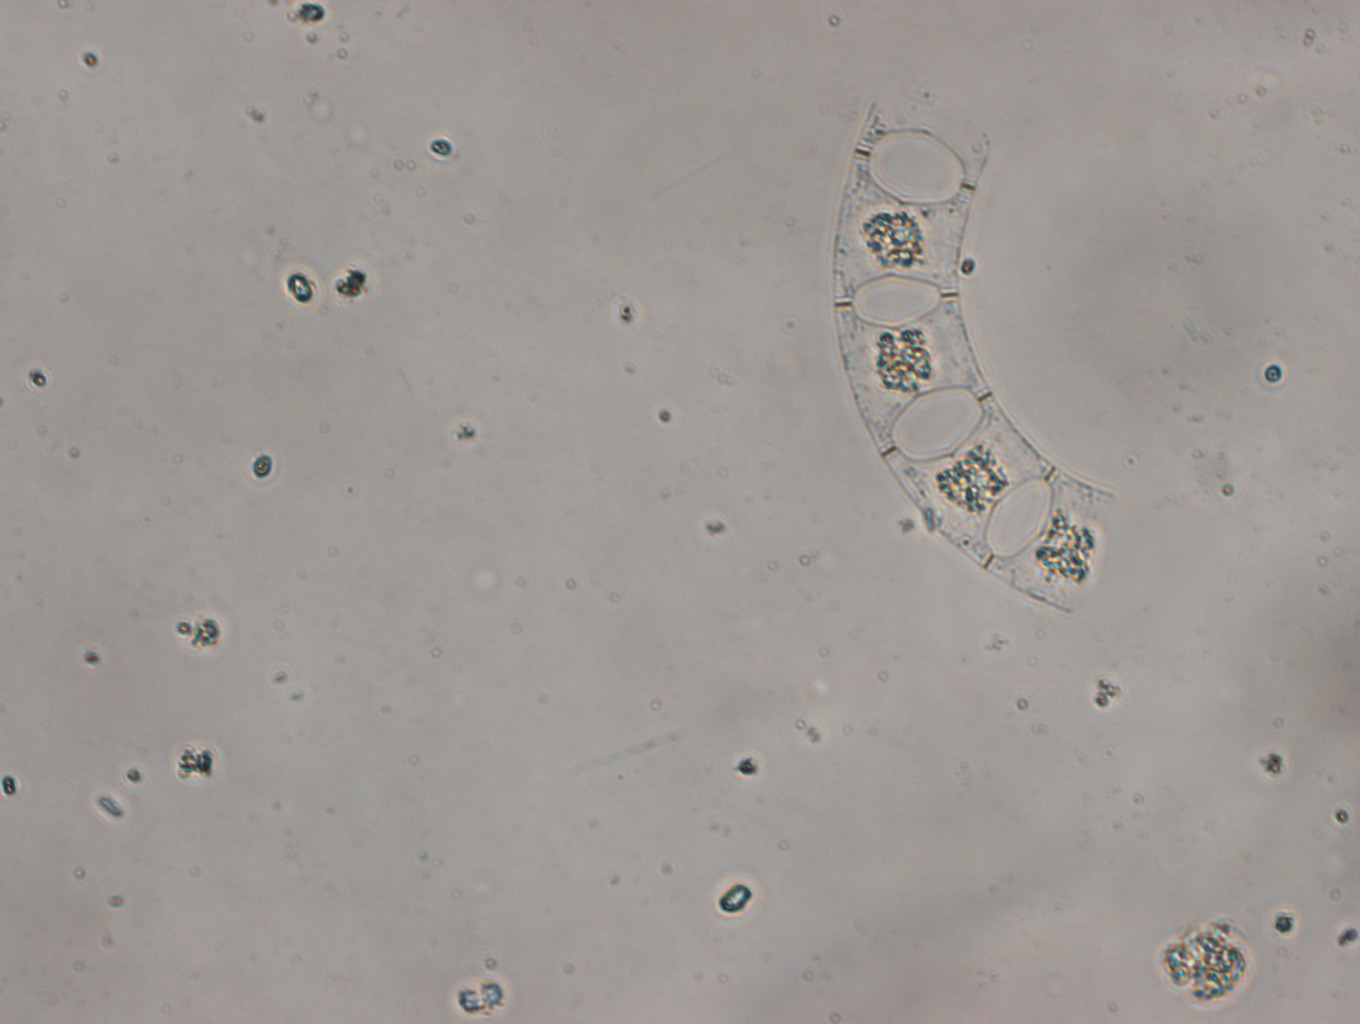eucampia: (833, 103, 1116, 613)
